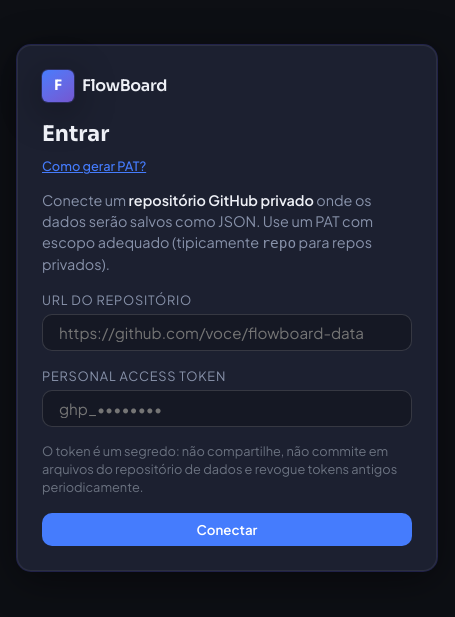
Scenario: LoginView Integration Tests › valida URL vazia com mensagem de erro
Click the submit button.
click(227, 530)  # box [42,513,412,546]
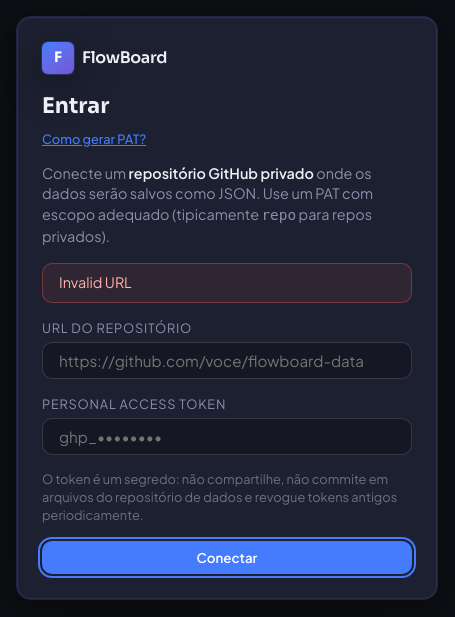
Now the message with class "fb-login__err" shows "URL", box [59,273,132,291]
